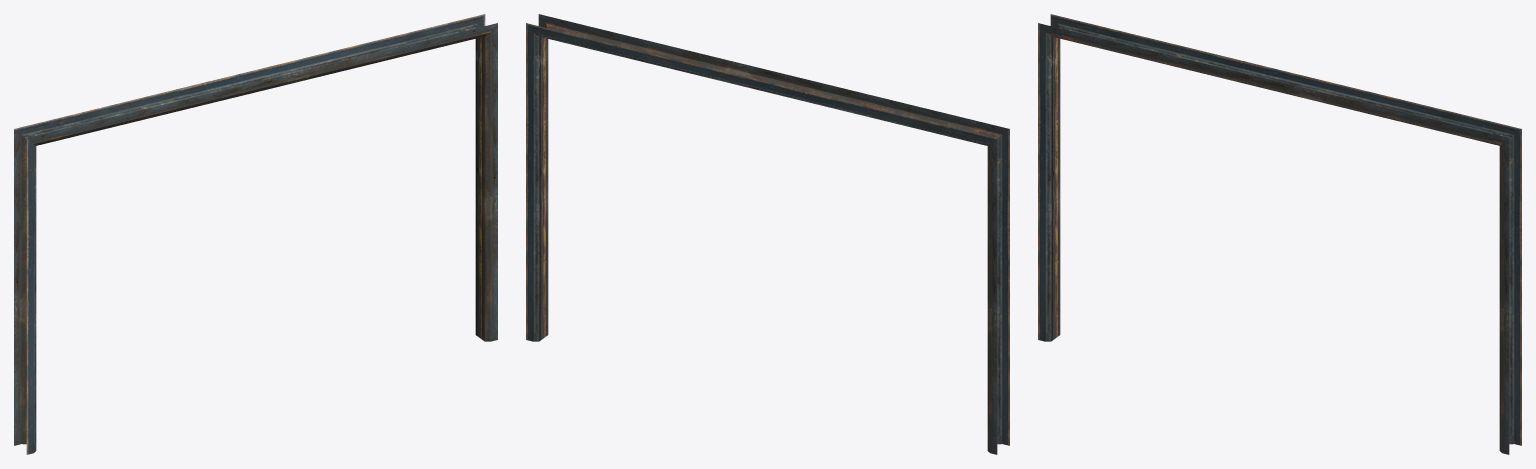
File: Door_Outline_1.fbx
The picture shows the model from 3 angles, left to right: view 1: azimuth 30°, elevation 25°; view 2: azimuth 150°, elevation 25°; view 3: azimuth 330°, elevation 25°; orthographic projection.
Parts seen in each view (by area): view 1: Door_Outline_1; view 2: Door_Outline_1; view 3: Door_Outline_1.
Boxes of the visible parts, x1,y1,x2,y2 form: Door_Outline_1: [14, 14, 497, 454]; Door_Outline_1: [526, 14, 1009, 454]; Door_Outline_1: [1038, 14, 1521, 454].
Bounding box in the file's own units: 313 × 201 × 14.24.
